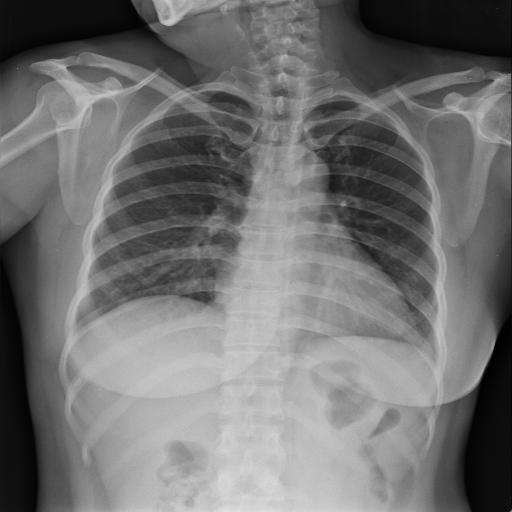Cardiomegaly: (114, 220, 313, 302)
